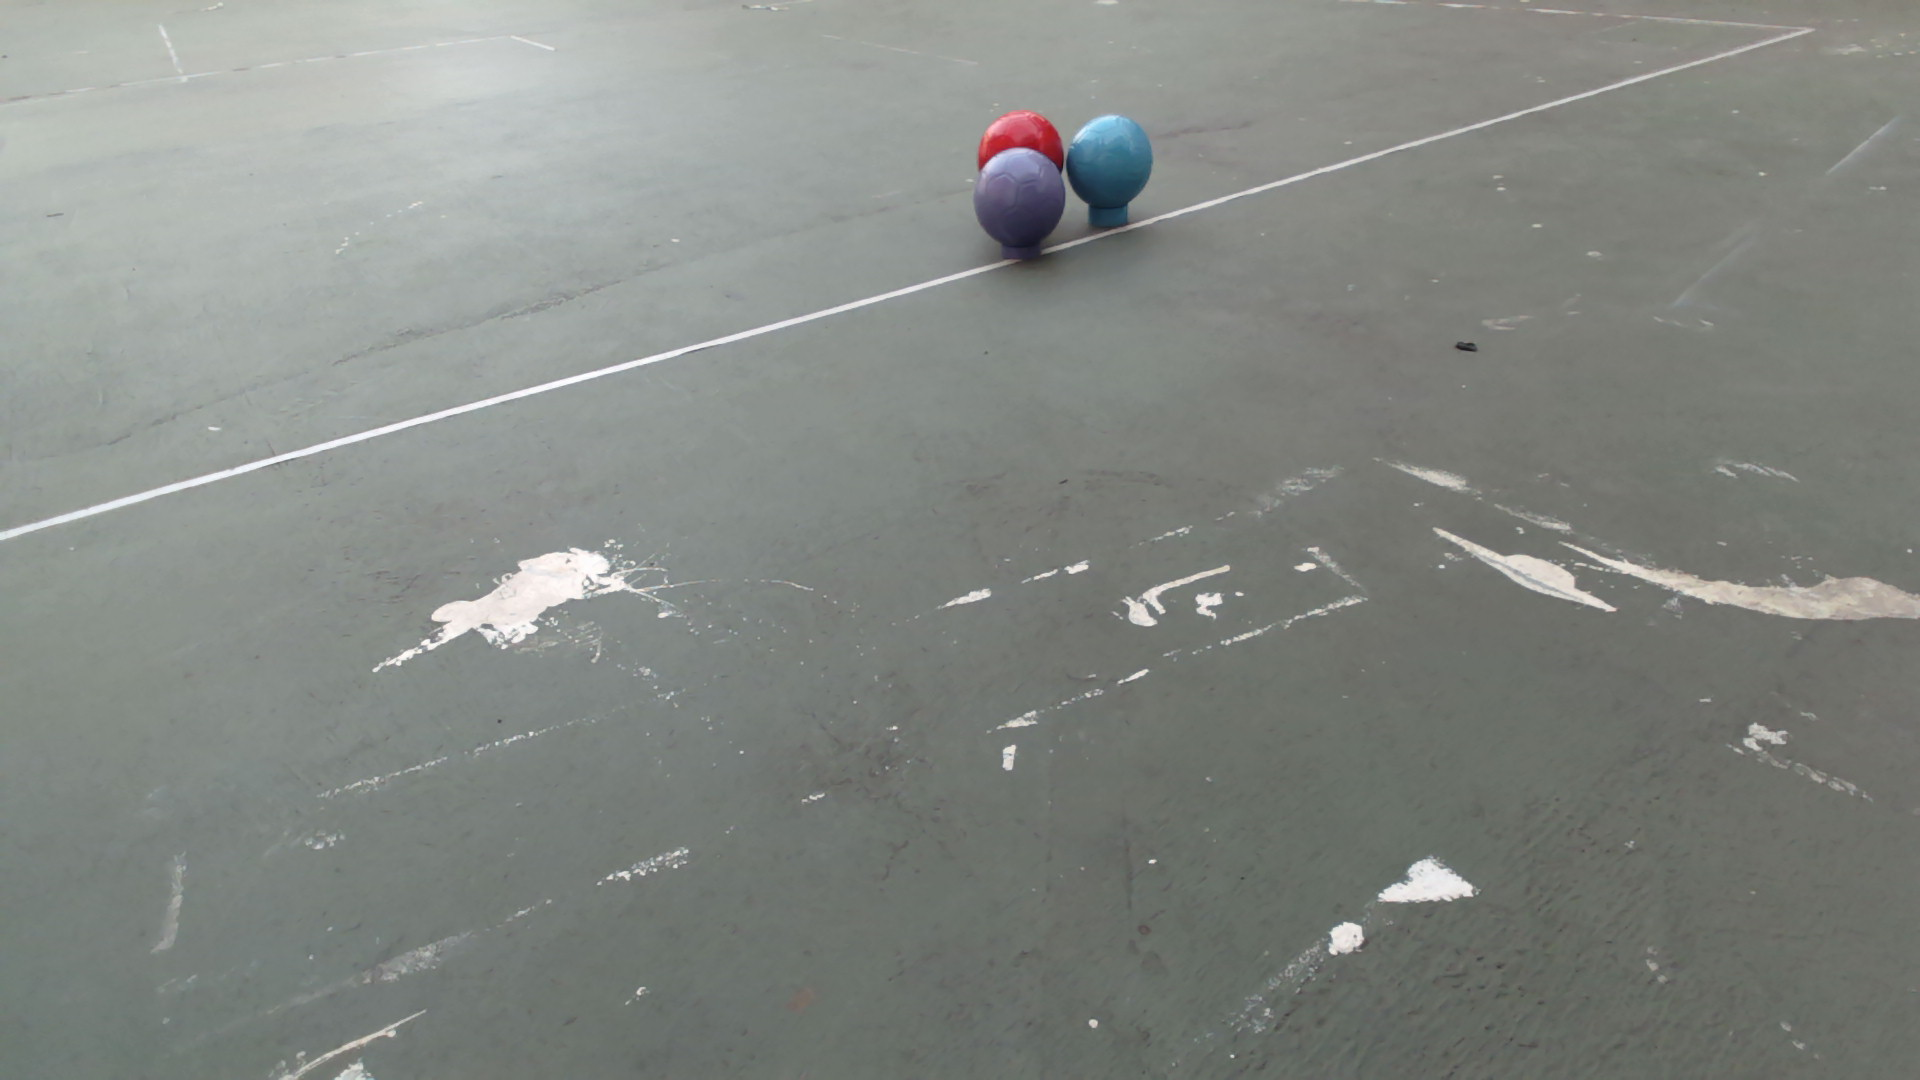Blue ball: (1064, 112, 1154, 210)
Purple ball: (971, 145, 1069, 249)
Red ball: (975, 108, 1065, 174)
